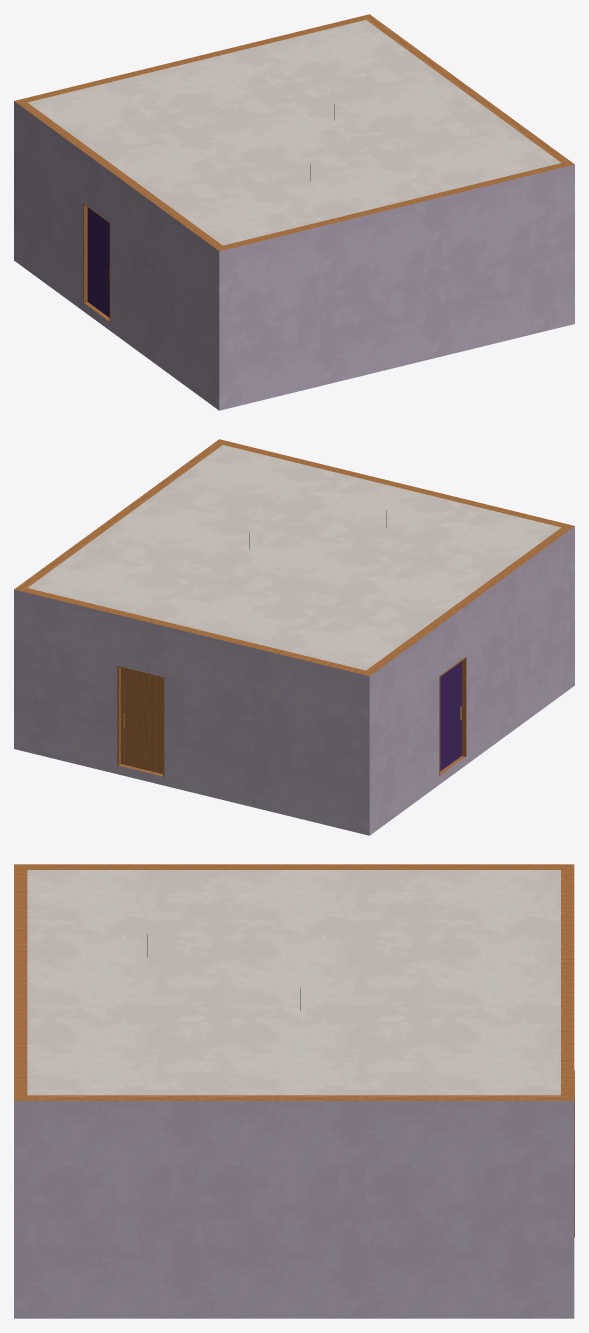
Rendered from threshold.glb.
3 renders of one model, top to bottom at view 1: azimuth 30°, elevation 25°; view 2: azimuth 150°, elevation 25°; view 3: azimuth 270°, elevation 25°, orthographic. The views are drawn at different scales.
Visible parts, largest first — view 1: lm_room; view 2: lm_room; view 3: lm_room.
Part boxes in pixels (<box>): lm_room: <box>14,14,574,410</box>; lm_room: <box>14,439,574,835</box>; lm_room: <box>14,864,574,1318</box>.
Size of the model in its own units: 8.41 by 3.98 by 8.41.
Materials: 33 (27 with a texture image).
